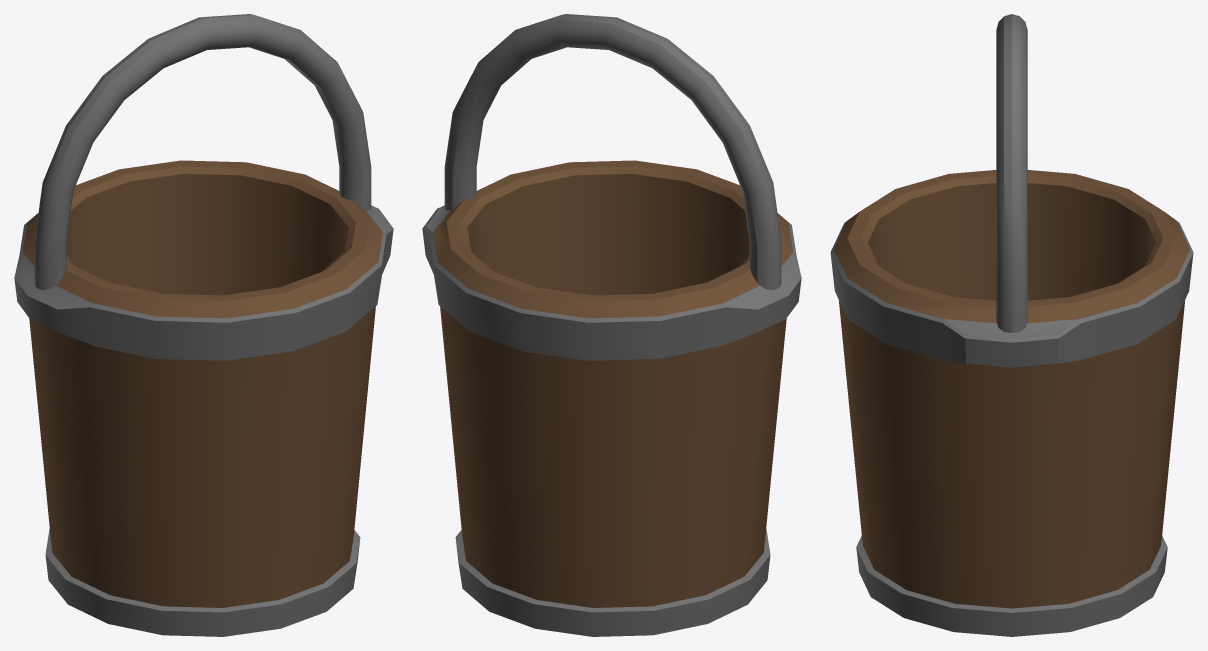
The model's file is bucketHandleUp.fbx.
3 views of the same model, side by side, from view 1: azimuth 30°, elevation 25°; view 2: azimuth 150°, elevation 25°; view 3: azimuth 270°, elevation 25° (orthographic).
Visible parts, largest first — view 1: Bucket Handle Up; view 2: Bucket Handle Up; view 3: Bucket Handle Up.
Boxes of the visible parts, box(x1,y1,x2,y2) form: Bucket Handle Up: box(14, 14, 393, 636); Bucket Handle Up: box(422, 14, 801, 636); Bucket Handle Up: box(830, 14, 1193, 636).
Size of the model in its own units: 32.35 by 29.52 by 48.84.
